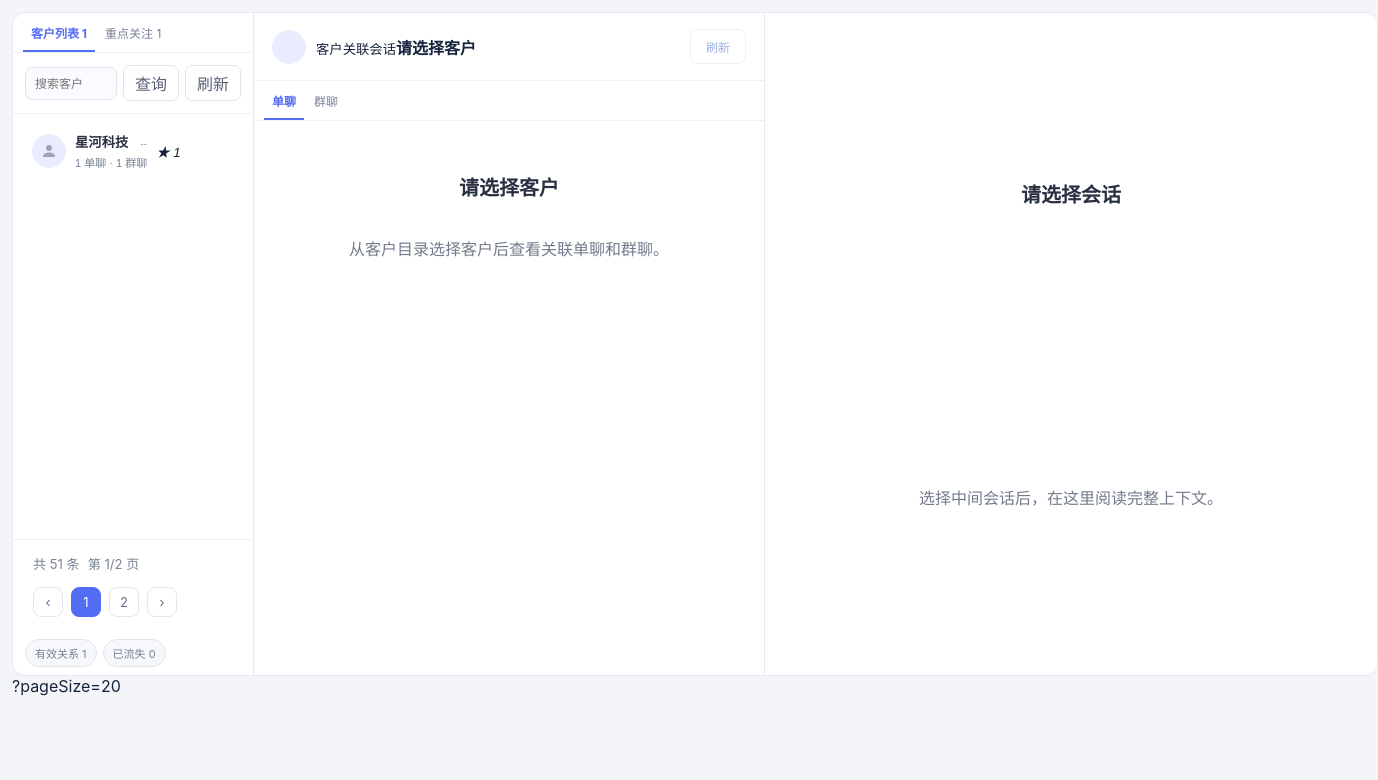
Test: CustomerConversationPage › opens the first available conversation after selecting a customer
Click the button "星河科技 -- 1 单聊 · 1 群聊 ★ 1" at (133, 151), box [21,121,245,181]
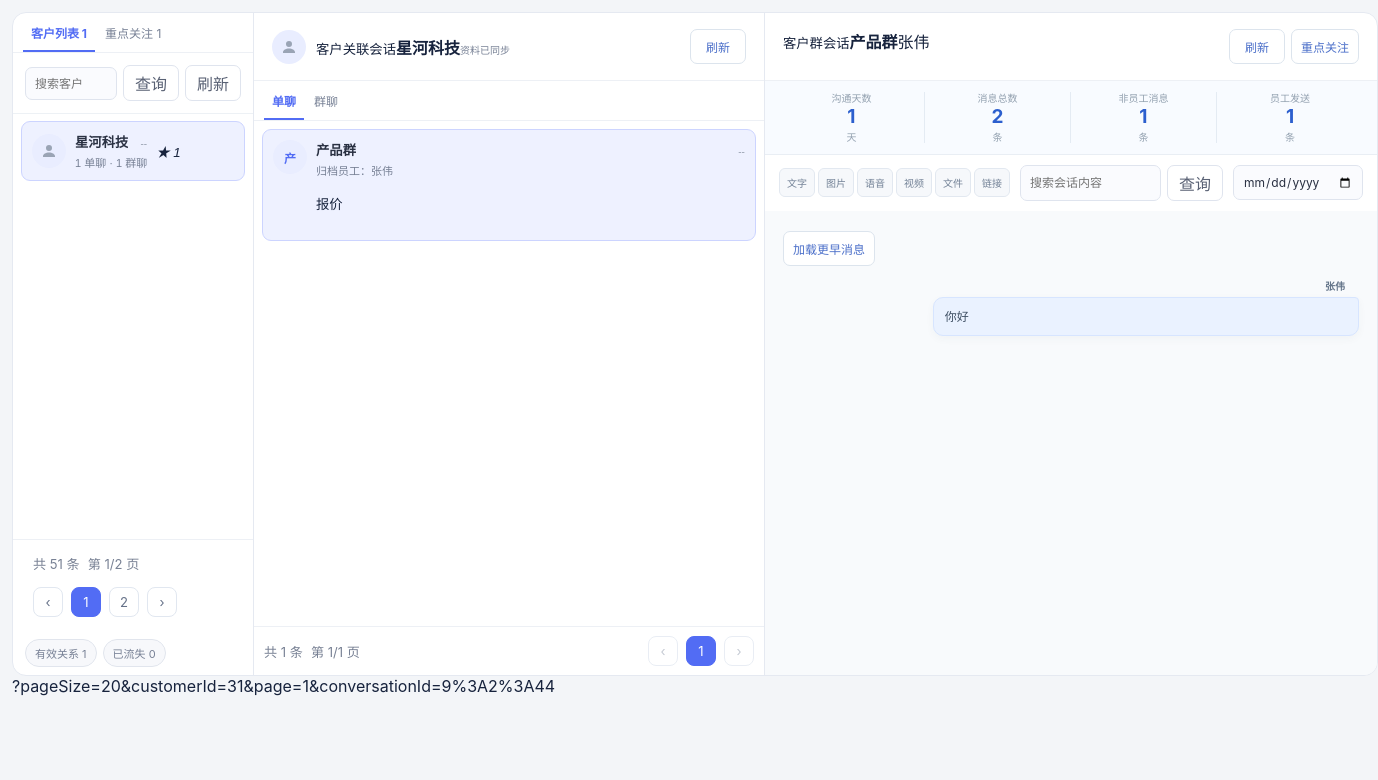
Expected: the text with test id "location" shows "conversationId=9%3A2%3A44", [12,676,555,696]
Expected: the text "你好" is shown, [945,309,969,324]
